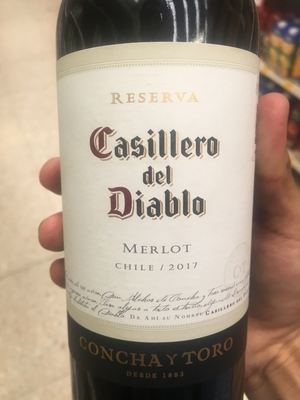casillero del diablo merlot: (51, 2, 258, 400)
